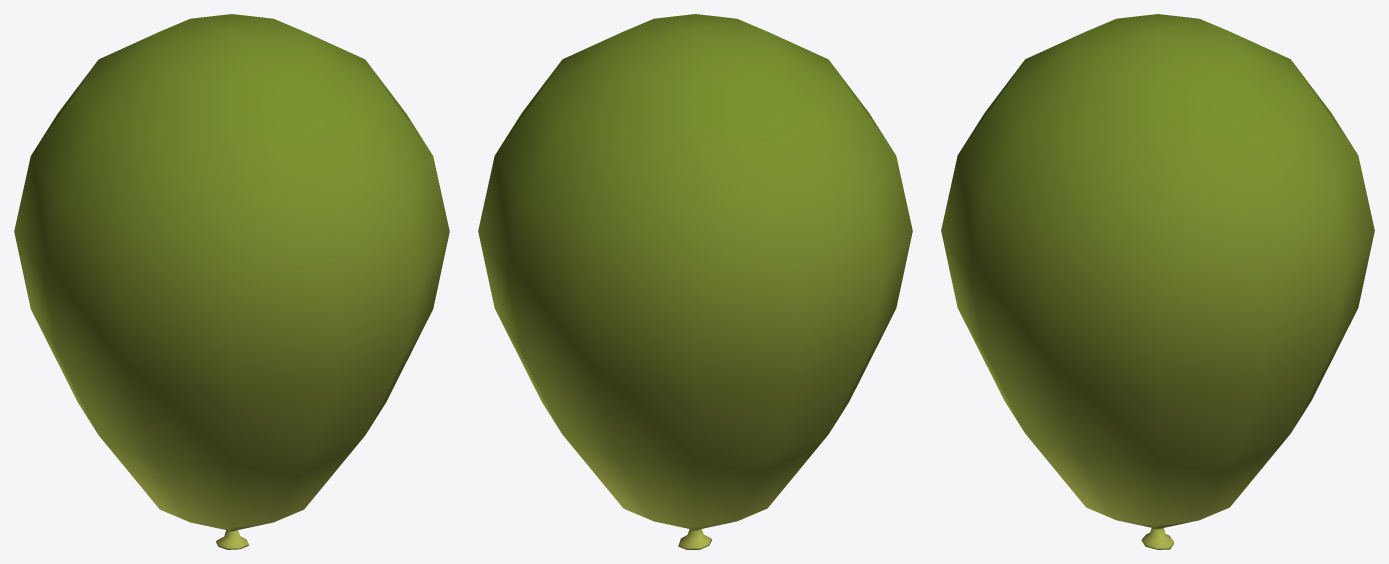
Rendered from SM_balloon_green_dark.fbx.
3 renders of one model, left to right at view 1: azimuth 30°, elevation 25°; view 2: azimuth 150°, elevation 25°; view 3: azimuth 270°, elevation 25°, orthographic.
Visible parts, largest first — view 1: Cube.030; view 2: Cube.030; view 3: Cube.030.
Part boxes in pixels (x1,y1,x2,y2): Cube.030: (14, 14, 449, 549); Cube.030: (478, 14, 912, 549); Cube.030: (941, 14, 1374, 549).
Size of the model in its own units: 121 by 157 by 121.
